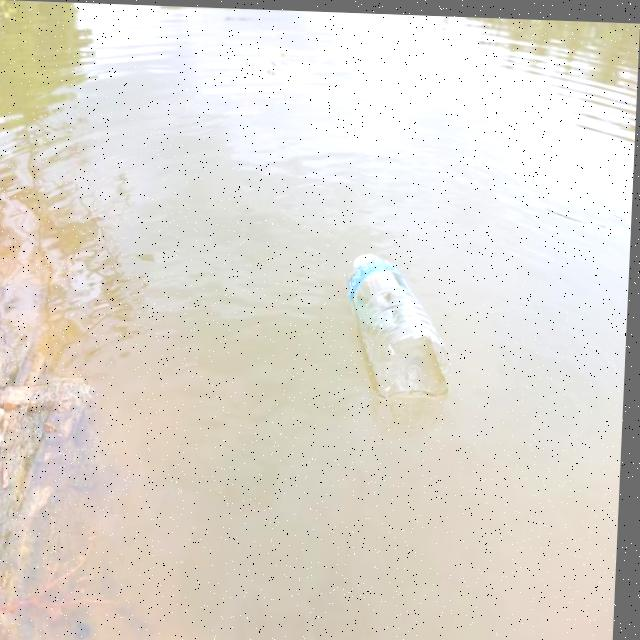waterbottle: (338, 230, 453, 404)
